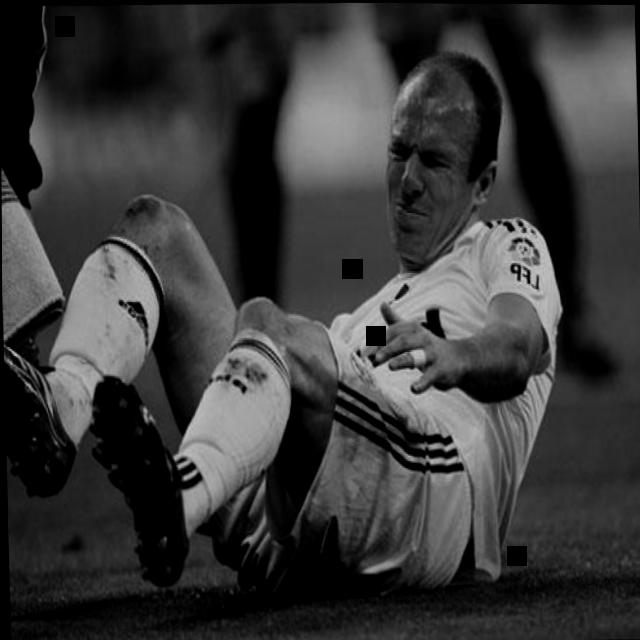Fall-Detected: (41, 25, 602, 616)
